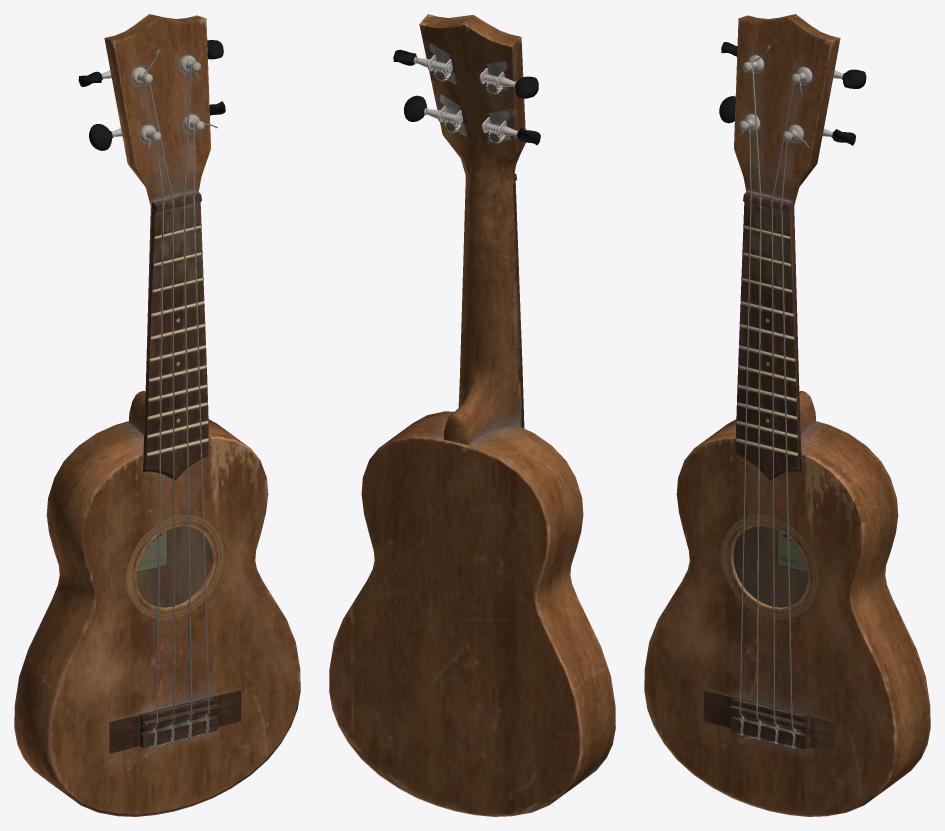
The model's file is ukulele_01.glb.
3 renders of one model, left to right at view 1: azimuth 30°, elevation 25°; view 2: azimuth 150°, elevation 25°; view 3: azimuth 330°, elevation 25°, orthographic.
Parts seen in each view (by area): view 1: Ukulele_01; view 2: Ukulele_01; view 3: Ukulele_01.
Part boxes in pixels (x1=…): Ukulele_01: x1=14, y1=14, x2=300, y2=816; Ukulele_01: x1=329, y1=14, x2=615, y2=816; Ukulele_01: x1=644, y1=14, x2=930, y2=816.
Bounding box in the file's own units: 0.1779 × 0.527 × 0.0508.
1 material, 1 textured.
